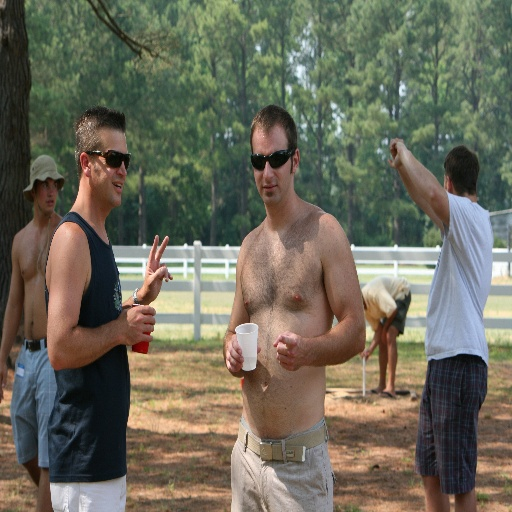hand: (138, 231, 173, 303), (118, 301, 157, 345), (271, 329, 308, 372), (224, 333, 261, 375), (386, 139, 404, 172), (0, 362, 8, 404), (380, 329, 386, 345), (361, 349, 368, 361)
